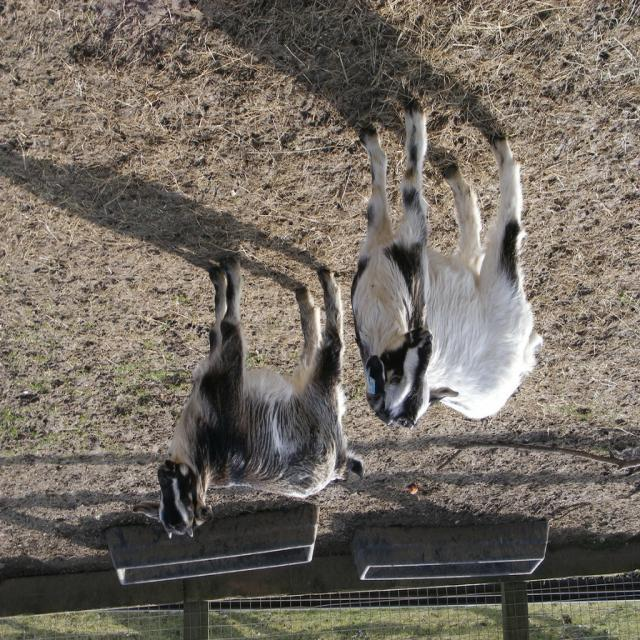Goat: (351, 100, 544, 430), (154, 257, 365, 541)
